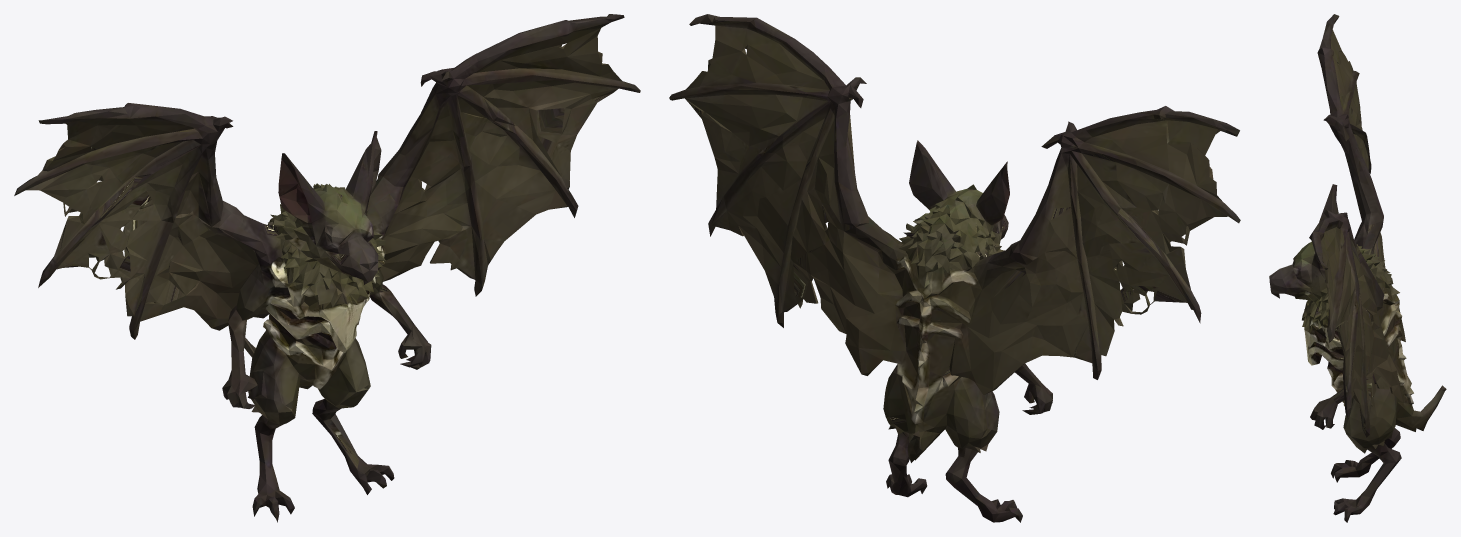
File: gloom_bat.glb
The picture shows the model from 3 angles, left to right: view 1: azimuth 30°, elevation 25°; view 2: azimuth 150°, elevation 25°; view 3: azimuth 270°, elevation 25°; orthographic projection. The views are drawn at different scales.
Visible parts, largest first — view 1: tripo_node_dc8f9f06-4ed4-4f0f-9d53-88bc58508b86; view 2: tripo_node_dc8f9f06-4ed4-4f0f-9d53-88bc58508b86; view 3: tripo_node_dc8f9f06-4ed4-4f0f-9d53-88bc58508b86.
Part boxes in pixels (<box>): tripo_node_dc8f9f06-4ed4-4f0f-9d53-88bc58508b86: <box>14,14,640,522</box>; tripo_node_dc8f9f06-4ed4-4f0f-9d53-88bc58508b86: <box>669,14,1240,522</box>; tripo_node_dc8f9f06-4ed4-4f0f-9d53-88bc58508b86: <box>1269,14,1446,522</box>.
Size of the model in its own units: 1 by 0.7226 by 0.3112.
1 material, 1 textured.
